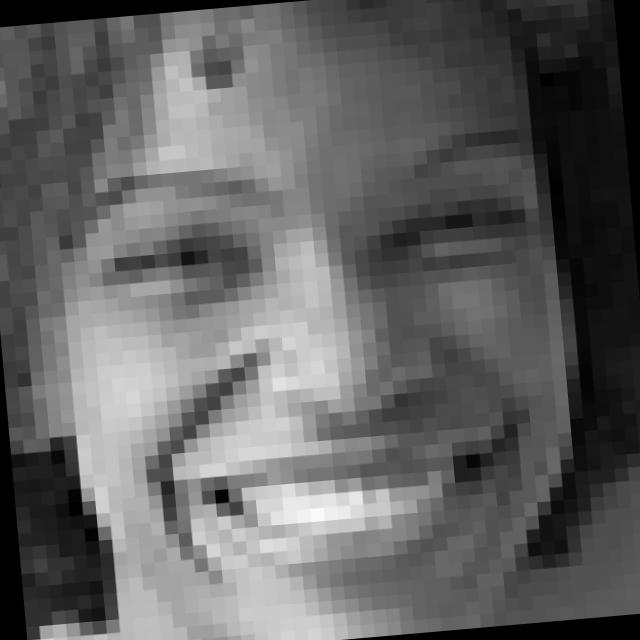happy: (56, 118, 569, 611)
